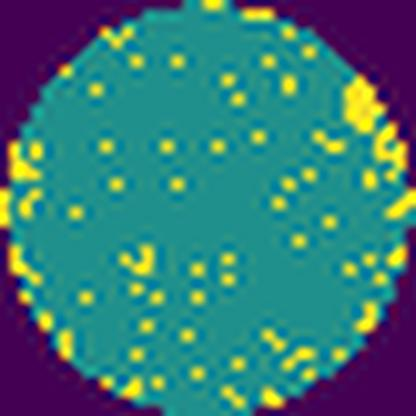Edge-Loc: (366, 112, 415, 188), (340, 70, 388, 136)
